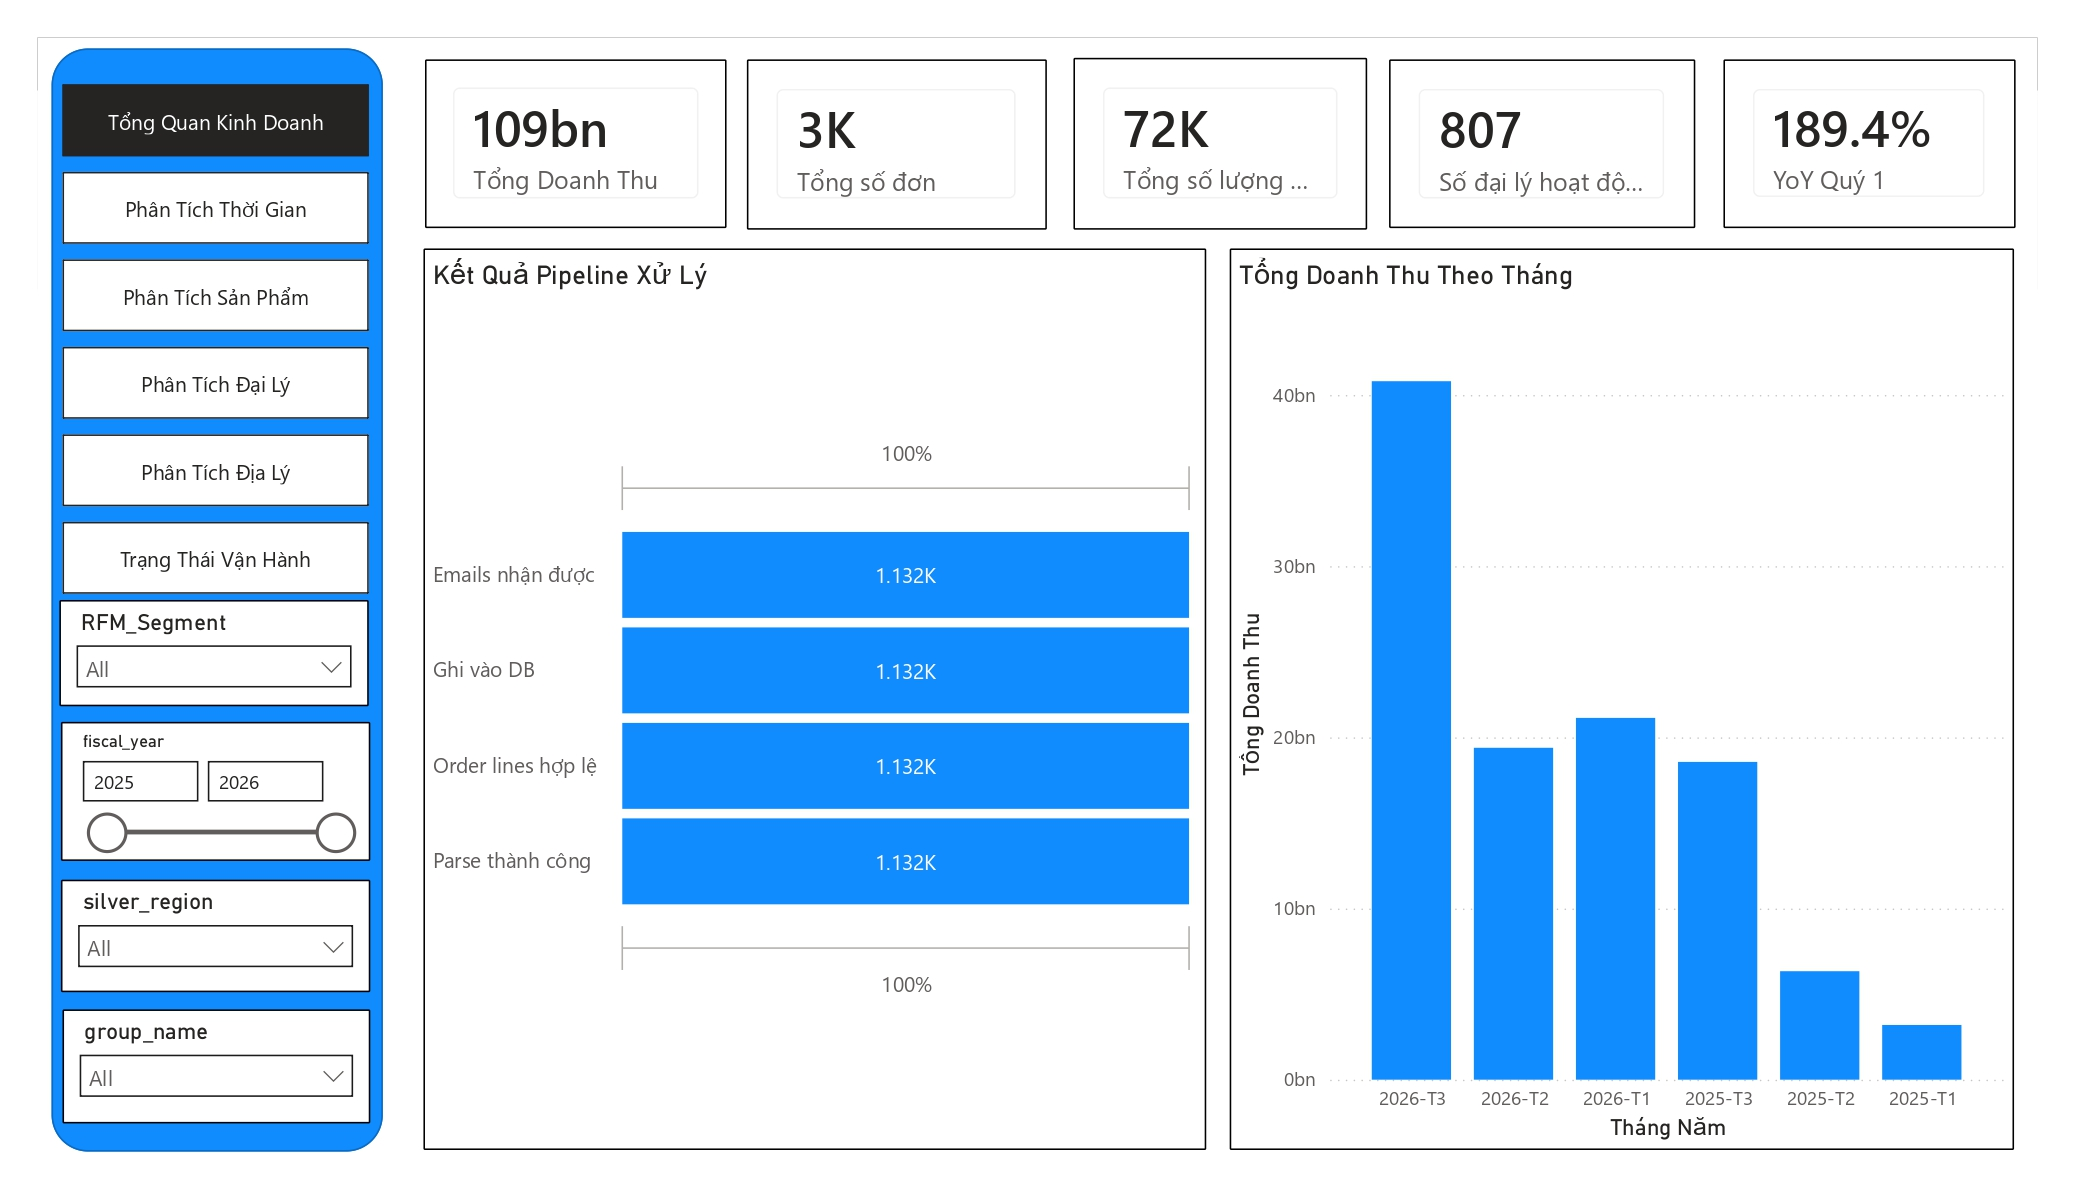

The dashboard page shown, as its layout file describes it:
{"tool":"powerbi","page":{"name":"Tổng Quan Kinh Doanh","canvas":[1280,720],"ordinal":0},"visuals":[{"type":"shape","box":[8.6,7.1,212.9,705.7],"z":0},{"type":"cardVisual","fields":{"Data":["_measures.Total Revenue"]},"box":[247.5,14.2,193.3,107.5],"z":1000},{"type":"cardVisual","fields":{"Data":["_measures.Total Orders"]},"box":[454.4,14.4,191.2,108.8],"z":2000},{"type":"cardVisual","fields":{"Data":["_measures.Total Qty"]},"box":[662.5,13.1,188.1,109.4],"z":3000},{"type":"cardVisual","fields":{"Data":["_measures.Active Customers"]},"box":[865,13.8,195.6,108.1],"z":4000},{"type":"slicer","fields":{"Values":["gold_fact_sales.fiscal_year"]},"box":[15,438,198,89],"z":5000},{"type":"slicer","fields":{"Values":["gold_fact_sales.silver_region"]},"box":[15.4,538.6,197.1,72.9],"z":6000},{"type":"slicer","fields":{"Values":["gold_fact_sales.group_name"]},"box":[15.8,622,197.1,72.9],"z":7000},{"type":"funnel","title":"Kết Quả Pipeline Xử Lý","fields":{"Category":["funnel_data.Label"],"Y":["Sum(funnel_data.Count)"]},"box":[246.7,135,501.7,576.7],"z":8000},{"type":"clusteredColumnChart","title":"Tổng Doanh Thu Theo Tháng","fields":{"Y":["_measures.Total Revenue"],"Category":["gold_fact_sales.YearMonth_Label"]},"box":[763.3,135,501.7,576.7],"z":9000},{"type":"slicer","fields":{"Values":["RFM_Table.RFM_Segment"]},"box":[14,360,198,68],"z":10000},{"type":"cardVisual","fields":{"Data":["_measures.YoY_Growth_Q1"]},"box":[1078.9,14.4,186.7,107.8],"z":11000},{"type":"pageNavigator","box":[15.8,30,196.7,330],"z":12000}]}

Visuals, with their boxes on the page's 1280x720 design canvas (x1, y1, x2, y2). These are canvas units, not pixel positions in the 2075x1200 screenshot, which may show the page scaled, cropped or inside an application window:
shape: 9,7,222,713
cardVisual - _measures.Total Revenue: 248,14,441,122
cardVisual - _measures.Total Orders: 454,14,646,123
cardVisual - _measures.Total Qty: 662,13,851,122
cardVisual - _measures.Active Customers: 865,14,1061,122
slicer - gold_fact_sales.fiscal_year: 15,438,213,527
slicer - gold_fact_sales.silver_region: 15,539,212,612
slicer - gold_fact_sales.group_name: 16,622,213,695
"Kết Quả Pipeline Xử Lý" funnel: 247,135,748,712
"Tổng Doanh Thu Theo Tháng" clusteredColumnChart: 763,135,1265,712
slicer - RFM_Table.RFM_Segment: 14,360,212,428
cardVisual - _measures.YoY_Growth_Q1: 1079,14,1266,122
pageNavigator: 16,30,212,360
